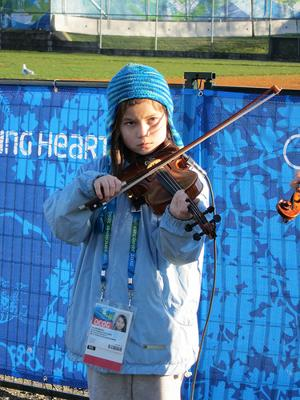person: (44, 64, 210, 400)
